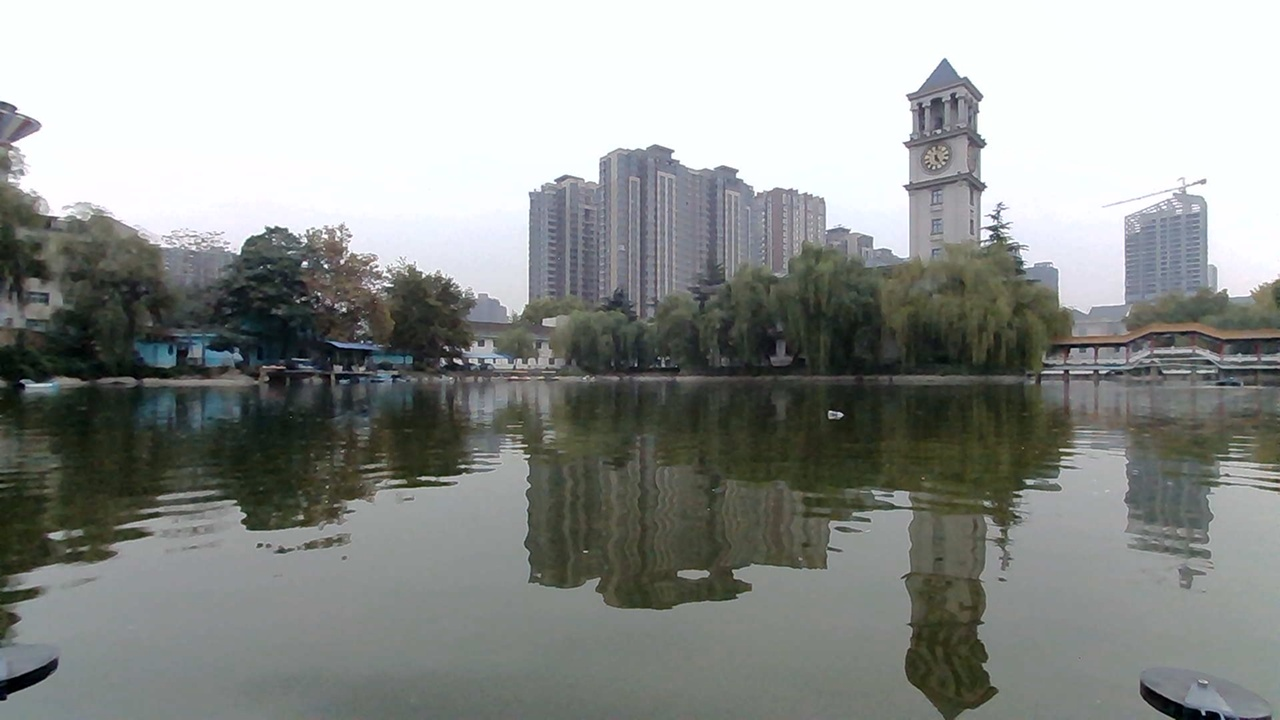bottle: (823, 398, 862, 428)
